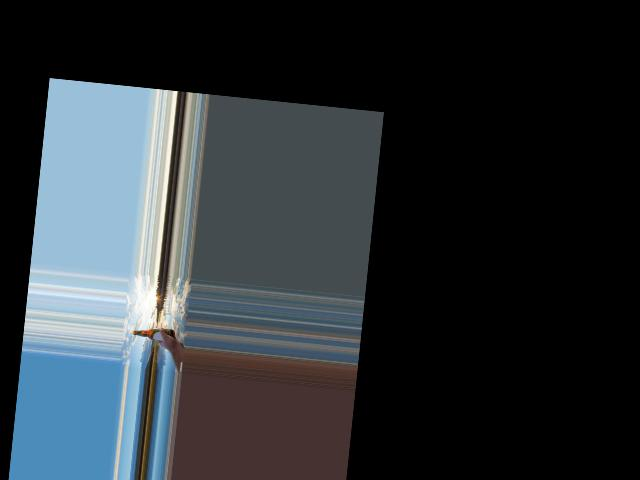beer: (132, 324, 173, 342)
